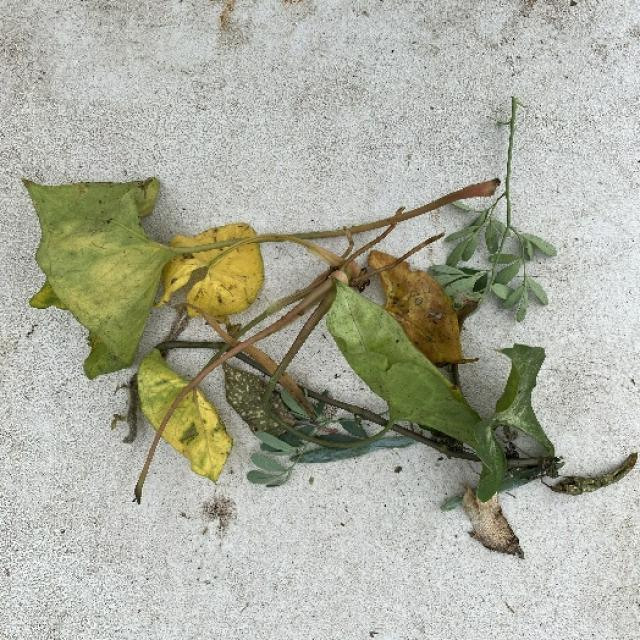organik: (42, 178, 594, 510)
